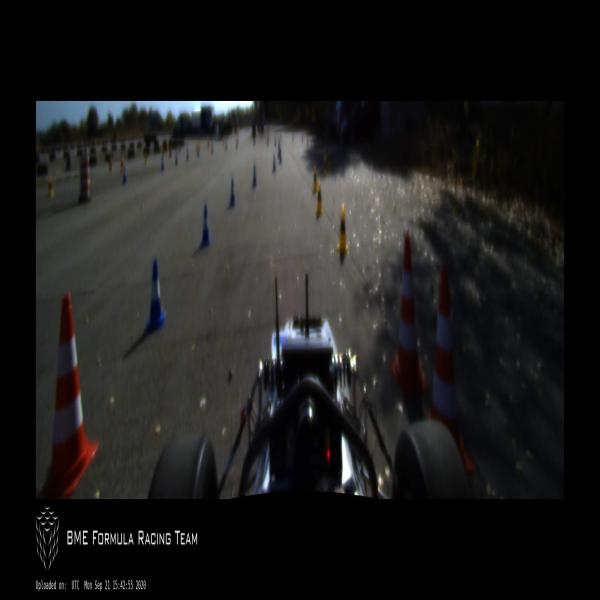blue_cone: (145, 257, 166, 336), (200, 204, 211, 250), (229, 178, 236, 209), (252, 164, 257, 188), (122, 166, 127, 186), (272, 154, 276, 173), (160, 155, 164, 171), (174, 152, 178, 167), (186, 146, 190, 159), (196, 144, 200, 157), (279, 148, 282, 164), (224, 142, 228, 152), (278, 139, 280, 158), (210, 142, 213, 154), (274, 136, 277, 146), (253, 136, 256, 146), (267, 135, 269, 146), (236, 139, 238, 149), (280, 134, 282, 142)
large_orange_cone: (38, 293, 100, 498), (430, 267, 475, 474), (390, 234, 428, 395)
yellow_cone: (336, 206, 349, 256), (315, 180, 322, 216), (47, 176, 54, 199), (313, 166, 317, 193), (323, 157, 327, 176), (120, 159, 124, 173), (109, 157, 112, 175), (306, 135, 309, 146), (301, 134, 304, 144), (169, 145, 171, 159), (178, 141, 180, 155), (144, 154, 146, 166), (207, 138, 209, 149), (195, 141, 197, 152), (292, 134, 294, 142), (222, 138, 224, 146)
